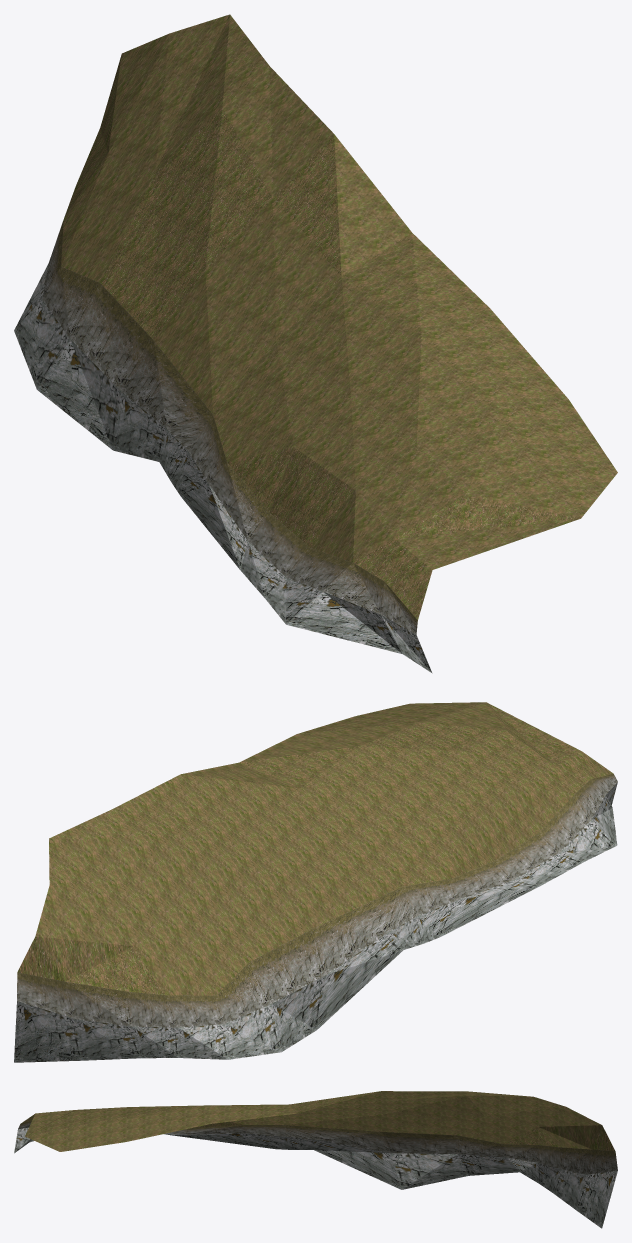
Rendered from cs_landbit_34.obj.
3 views of the same model, one above another, from view 1: azimuth 30°, elevation 25°; view 2: azimuth 150°, elevation 25°; view 3: azimuth 270°, elevation 25° (orthographic). The views are drawn at different scales.
Visible parts, largest first — view 1: cs_landbit_34; view 2: cs_landbit_34; view 3: cs_landbit_34.
Boxes of the visible parts, bbox=[...] form: cs_landbit_34: bbox=[14, 14, 617, 673]; cs_landbit_34: bbox=[14, 702, 617, 1062]; cs_landbit_34: bbox=[14, 1091, 617, 1228].
Size of the model in its own units: 82.39 by 64.13 by 224.
3 materials, 3 textured.
